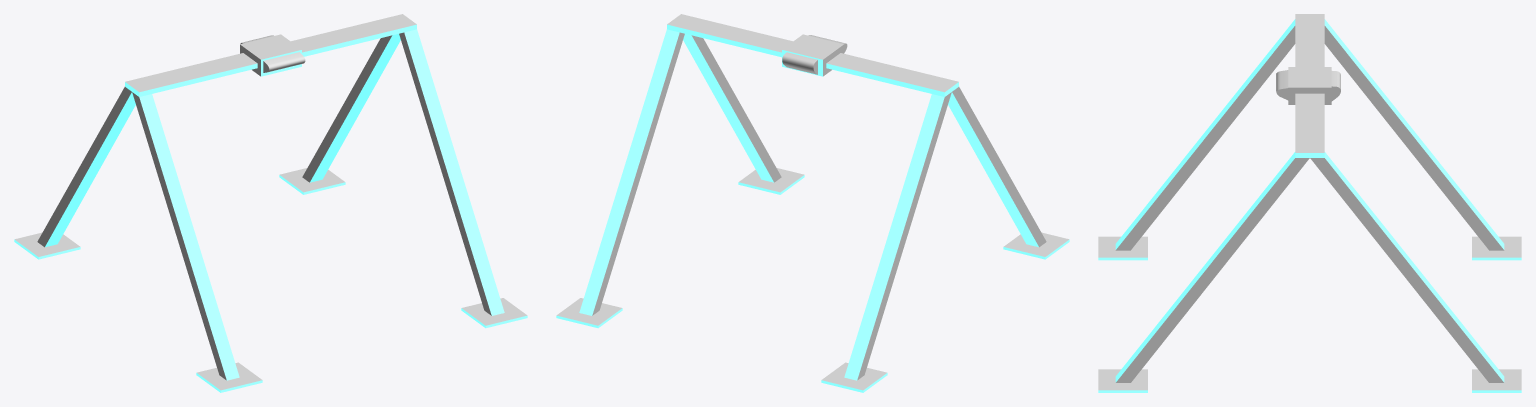
The model's file is Stand (1).fbx.
3 renders of one model, left to right at view 1: azimuth 30°, elevation 25°; view 2: azimuth 150°, elevation 25°; view 3: azimuth 270°, elevation 25°, orthographic. The views are drawn at different scales.
Parts seen in each view (by area): view 1: Cube.001; view 2: Cube.001; view 3: Cube.001.
Boxes of the visible parts, x1,y1,x2,y2 form: Cube.001: [14, 14, 527, 392]; Cube.001: [556, 14, 1069, 392]; Cube.001: [1098, 14, 1521, 392].
Bounding box in the file's own units: 233 × 169 × 271.
